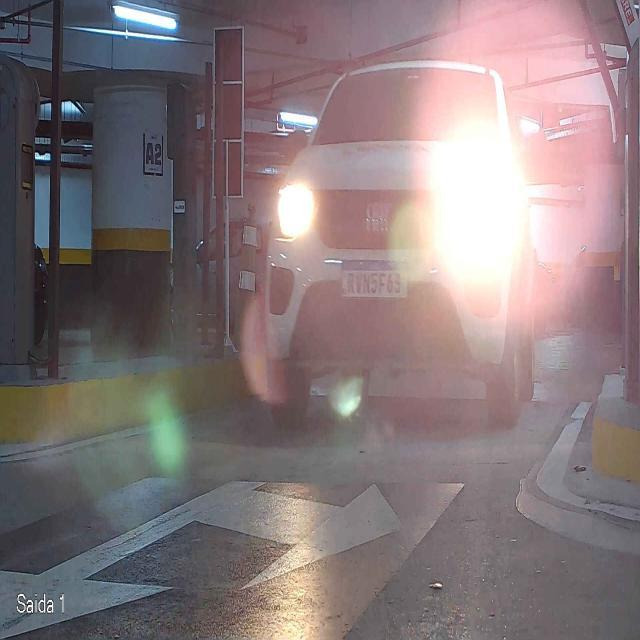mercosul_plate: (339, 259, 410, 299)
